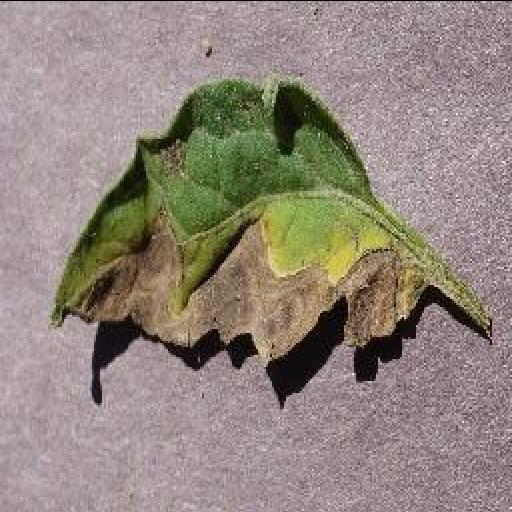disease_tomato: (47, 81, 433, 382)
